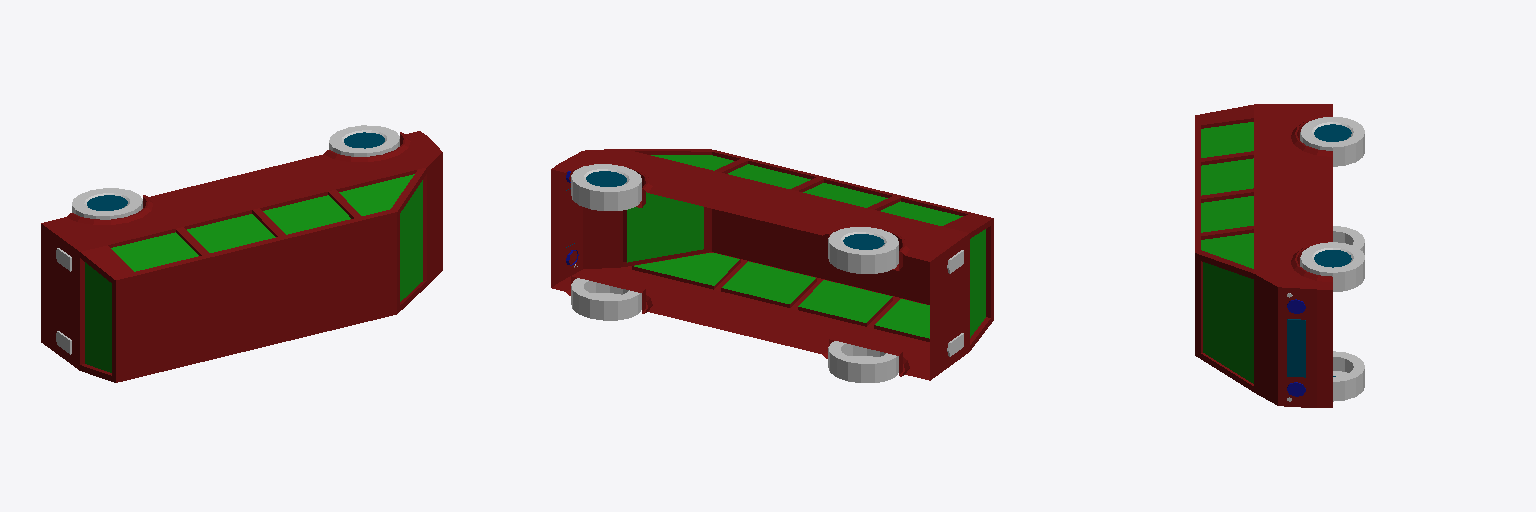
The model's file is minibus.obj.
The picture shows the model from 3 angles: view 1: azimuth 30°, elevation 25°; view 2: azimuth 150°, elevation 25°; view 3: azimuth 270°, elevation 25°; orthographic projection.
Bounding box in the file's own units: 5.44 × 1.75 × 2.11.